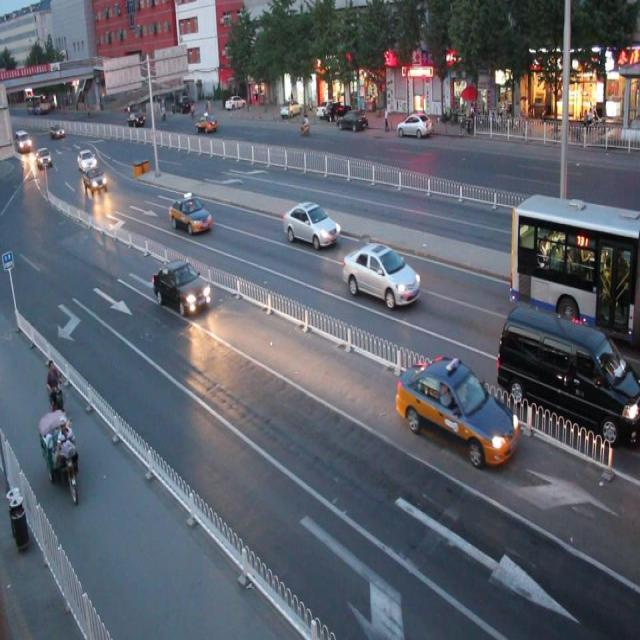car: (397, 359, 519, 467), (341, 240, 422, 308), (154, 259, 210, 313), (282, 201, 338, 248), (168, 193, 212, 234)
truck: (498, 304, 640, 447)
van: (508, 192, 640, 345)
